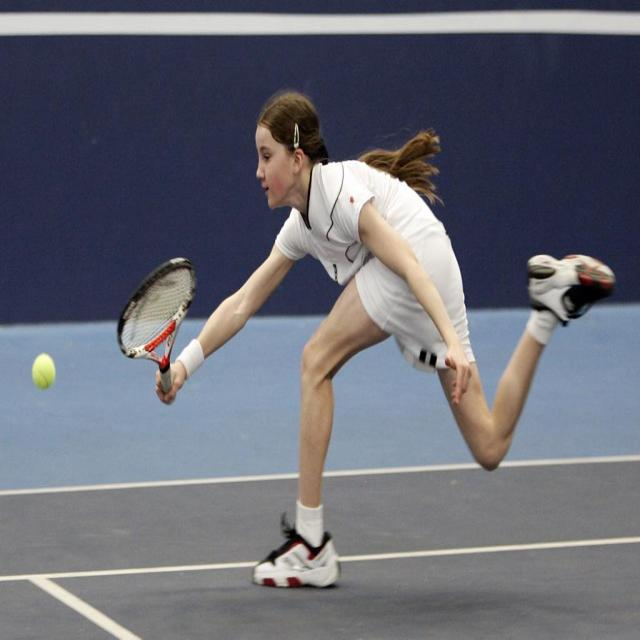Face: (251, 120, 292, 215)
